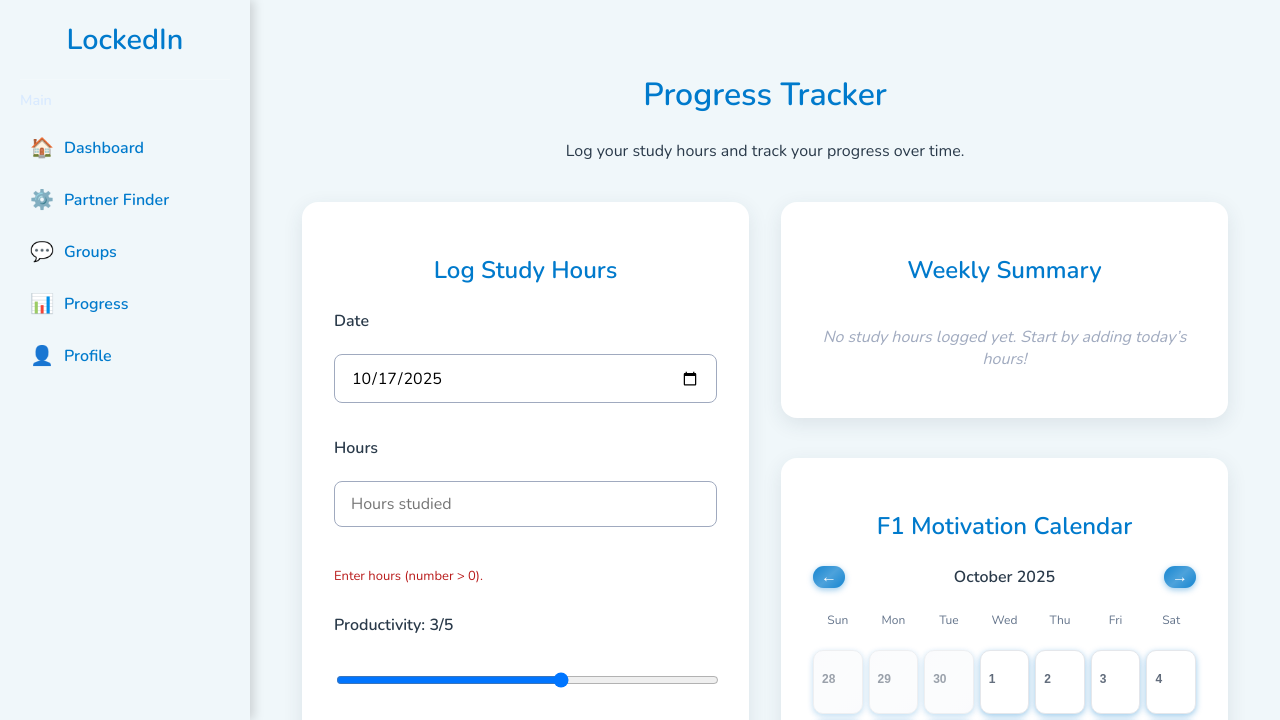
Test: Progress Tracker › shows validation error initially and enables submit on valid hours
This screenshot has width=1280, height=720.
Check: the text "Enter hours (number > 0)." is shown, box [334,567,483,585]
In the number field labelled "Hours": coordinates (526, 504) [334,481,717,527], type "2"
(page scrolled)
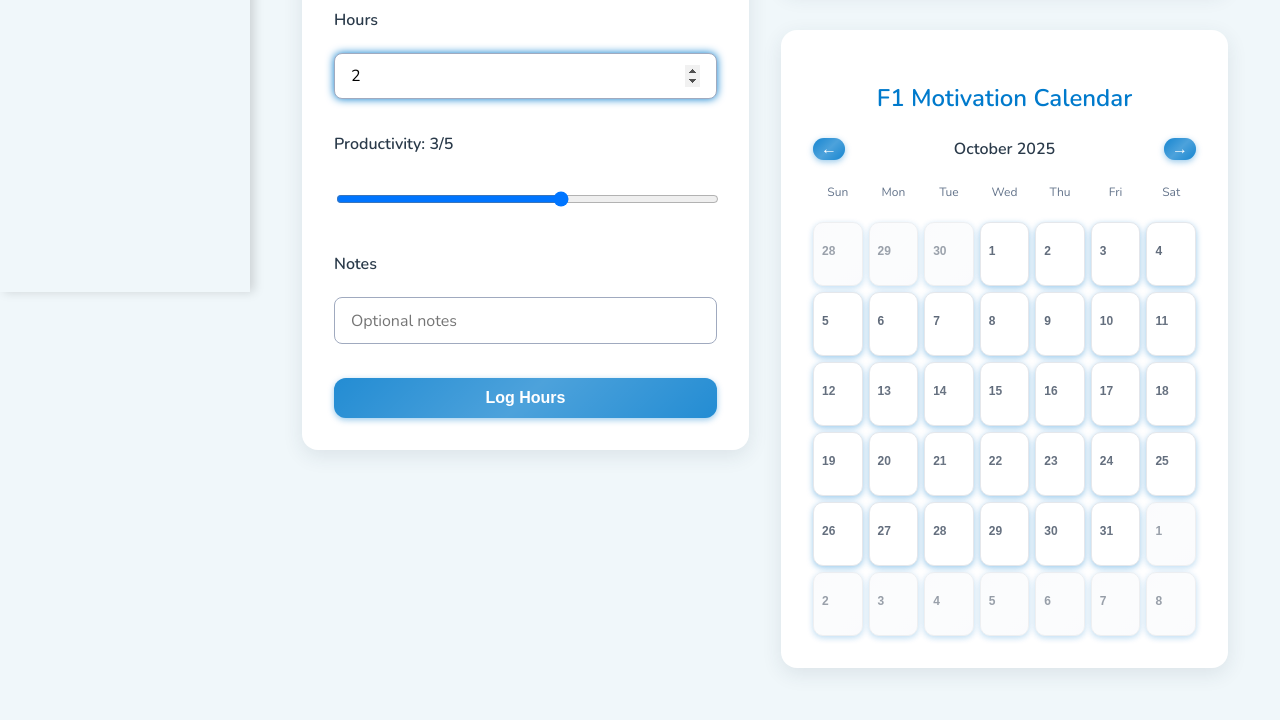
Check: the button "Log Hours" is enabled, box [334,378,717,418]
